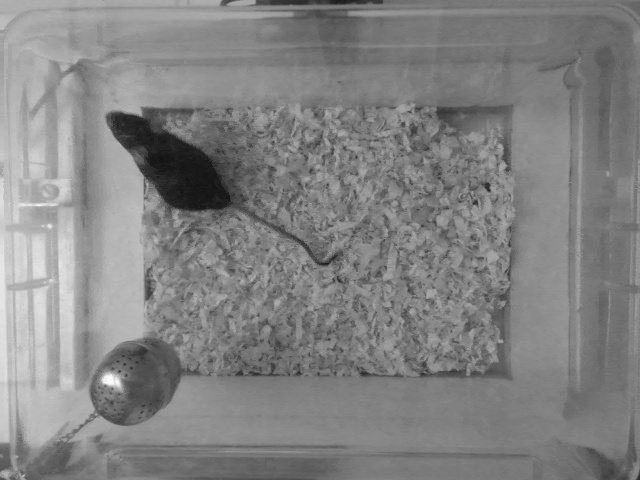mice: (95, 109, 340, 267)
